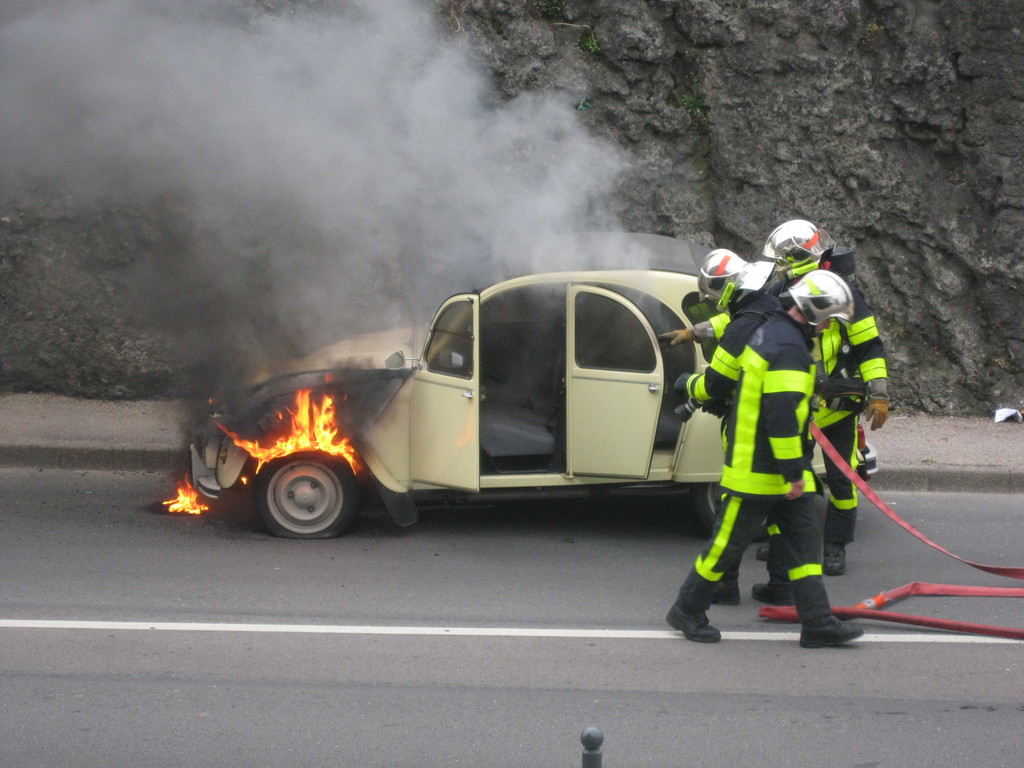Person: (659, 220, 889, 575), (665, 269, 863, 648), (673, 247, 794, 603)
